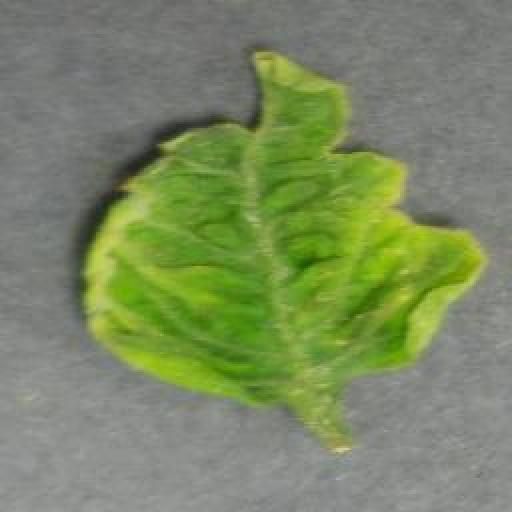disease_tomato: (78, 47, 485, 408)
